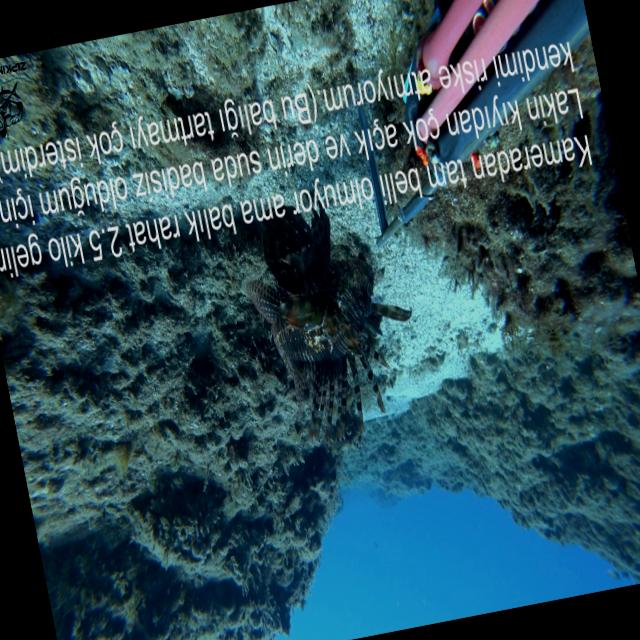Aslan Baligi: (204, 193, 440, 472)
